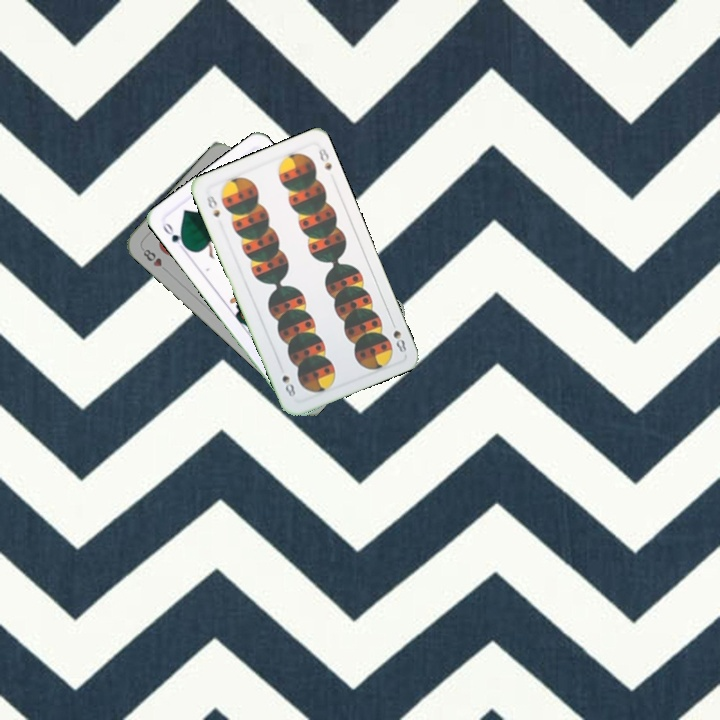GO: (158, 218, 190, 254)
H8: (139, 245, 171, 275)
S8: (385, 316, 409, 355), (202, 189, 222, 220)
